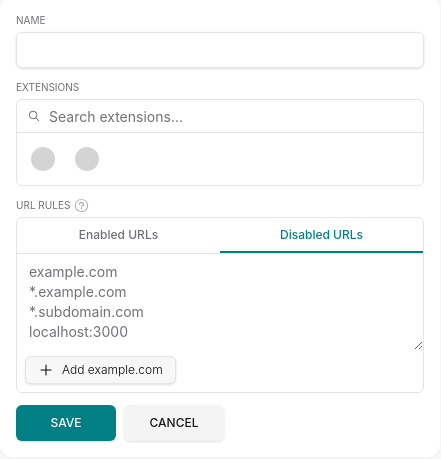
Test case: GroupRules › deselects an already-selected extension on a second click
Check: the button "Save" is shown, box x1=16 y1=405 x2=116 y2=441
Click the button named "Ext One, not selected" at (43, 159), box x1=25 y1=141 x2=61 y2=177
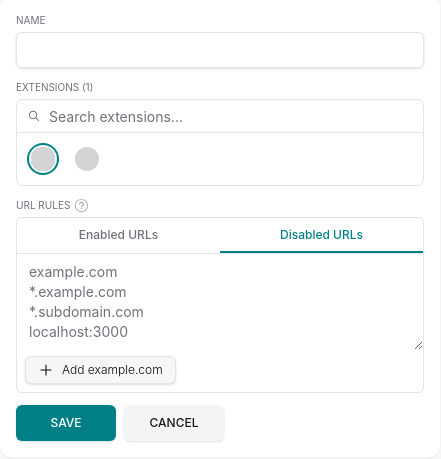
Check: the text "Extensions (1)" is shown, box x1=16 y1=81 x2=93 y2=93
Click the button named "Ext One, selected" at (43, 159), box x1=25 y1=141 x2=61 y2=177
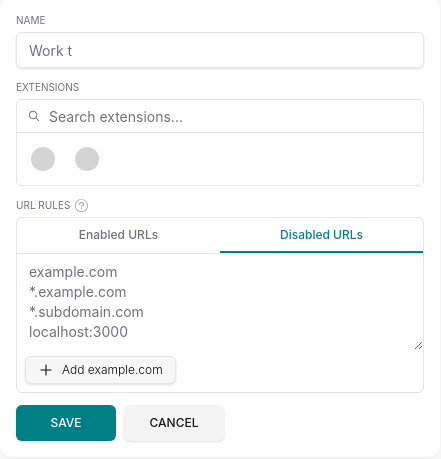
Check: the text "Extensions (" is gone
Check: the button named "Ext One, not selected" is shown, box x1=25 y1=141 x2=61 y2=177
